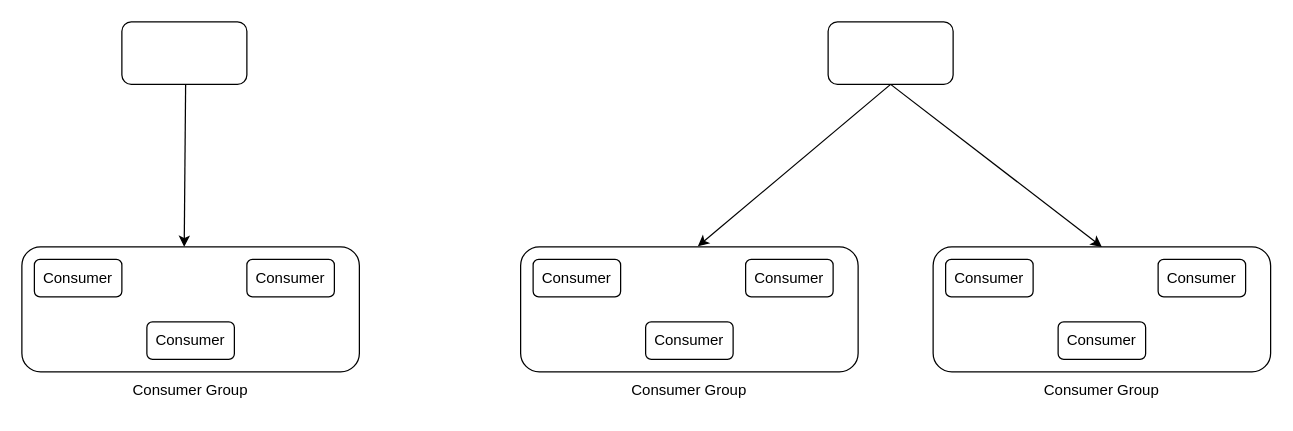
Image size: 1293x431. Some labels were removed from this diagram. Each missing label, with the centre of its shape:
"Topic A" belongs at point (184, 52).
"Topic B" belongs at point (890, 52).
